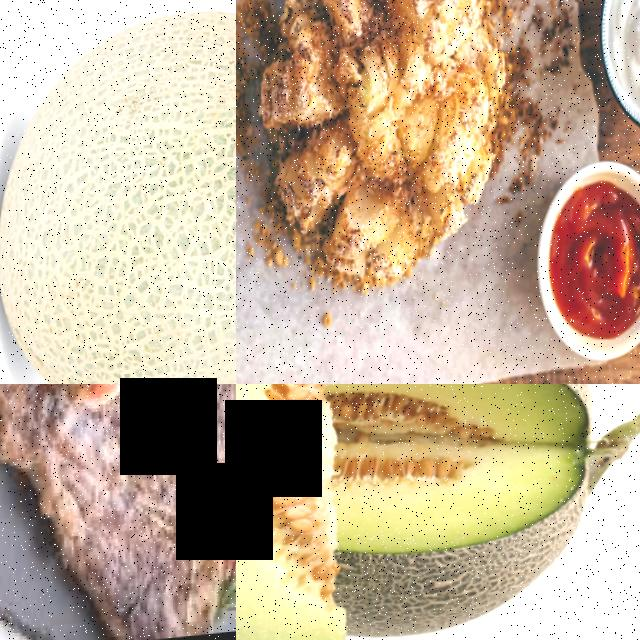melon: (0, 0, 236, 384), (322, 384, 623, 640), (236, 384, 356, 640)
